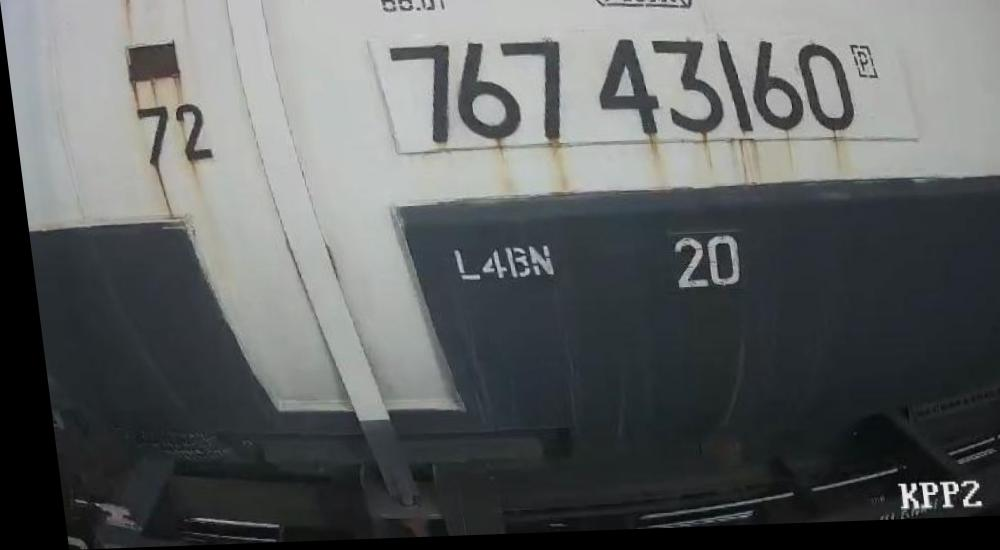Wagon-number: (379, 27, 857, 158)
